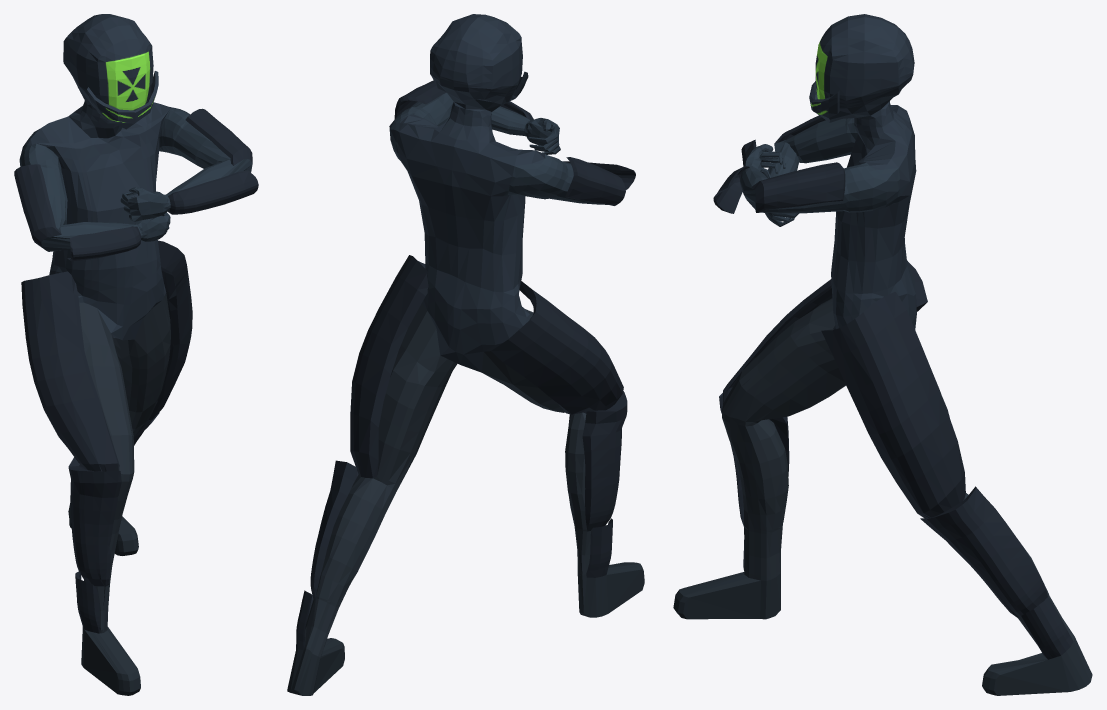
The model's file is Bastion_WL_000001.obj.
3 views of the same model, side by side, from view 1: azimuth 30°, elevation 25°; view 2: azimuth 150°, elevation 25°; view 3: azimuth 270°, elevation 25° (orthographic). The views are drawn at different scales.
Visible parts, largest first — view 1: Cube.002; view 2: Cube.002; view 3: Cube.002.
Part boxes in pixels (bbox=[...]): Cube.002: bbox=[14, 14, 258, 695]; Cube.002: bbox=[287, 14, 644, 695]; Cube.002: bbox=[673, 14, 1092, 695].
Size of the model in its own units: 1.31 by 3.59 by 2.15.
